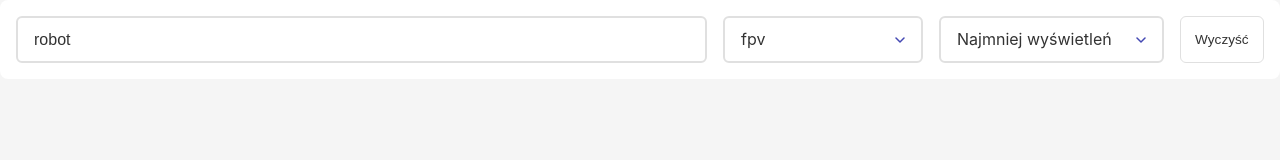
Test: SearchBar › selects and the clear button › Clear empties the input and commits the empty phrase at once, exactly once
What coordinates should you click on to do the following:
click the button "Wyczyść"
I would click on:
 (1222, 40)
Its box is [1180,16,1264,63].
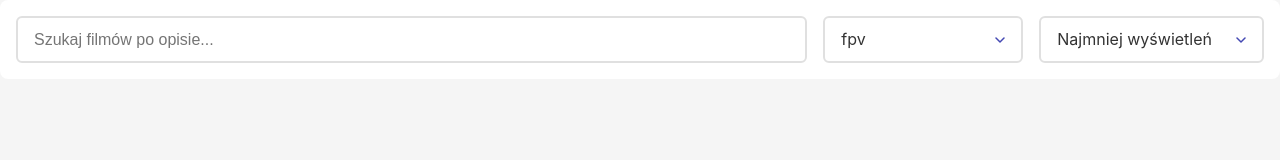
Result: the field with placeholder "Szukaj filmów po opisie..." is empty at [16,16,807,63]
Result: the button "Wyczyść" is gone
